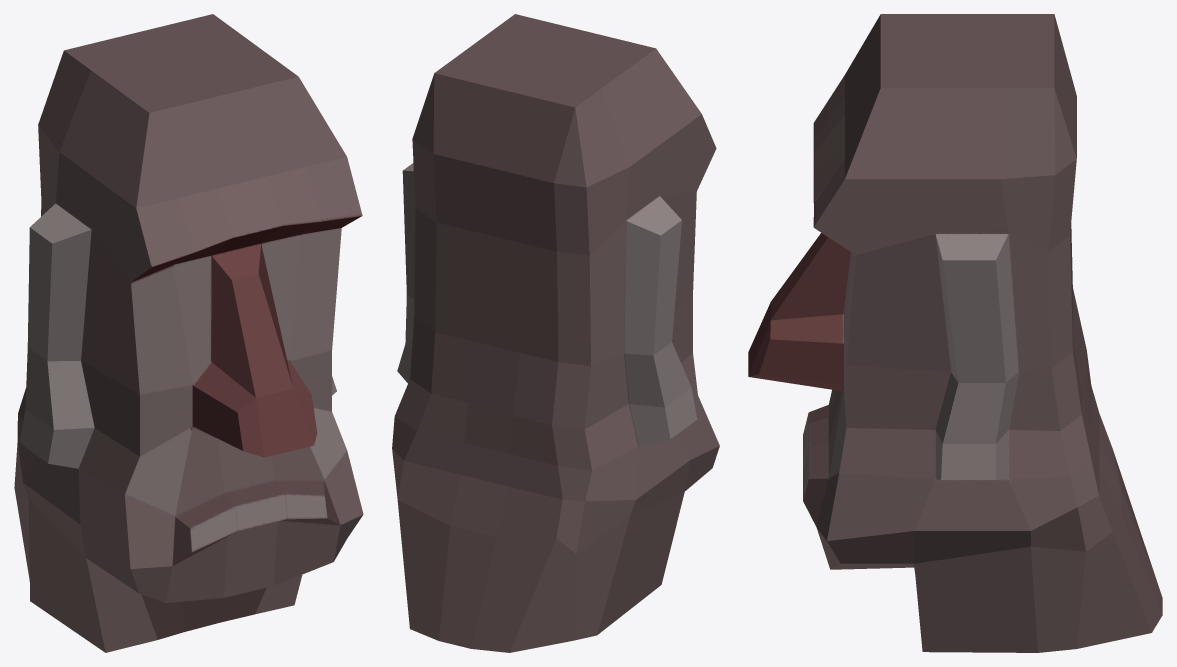
Rendered from New_EasterHeaf.fbx.
3 renders of one model, left to right at view 1: azimuth 30°, elevation 25°; view 2: azimuth 150°, elevation 25°; view 3: azimuth 270°, elevation 25°, orthographic. The views are drawn at different scales.
Parts seen in each view (by area): view 1: pCube1; view 2: pCube1; view 3: pCube1.
Boxes of the visible parts, x1=… form: pCube1: x1=14, y1=14, x2=363, y2=652; pCube1: x1=392, y1=14, x2=719, y2=652; pCube1: x1=748, y1=14, x2=1162, y2=652.
Bounding box in the file's own units: 1.46 × 2.64 × 1.78.
